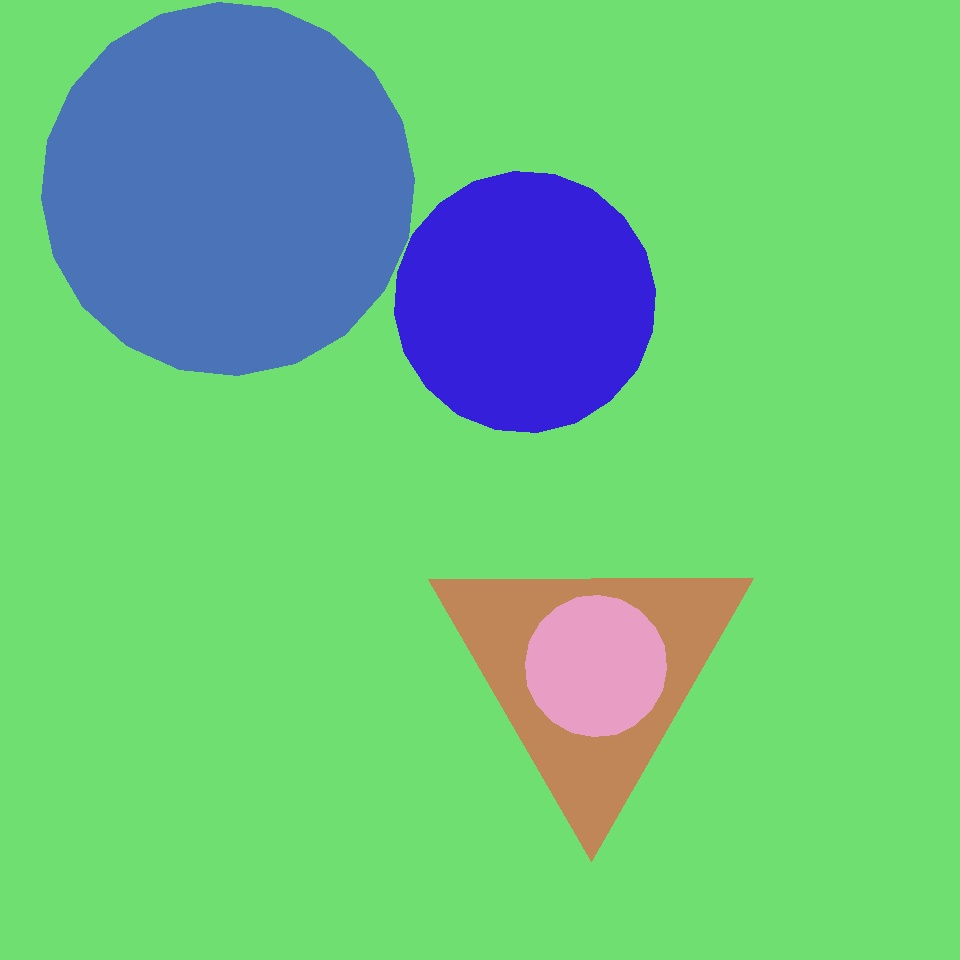circle: (428, 532, 754, 814), (428, 324, 697, 601), (828, 290, 938, 413), (292, 693, 384, 774)
square: (396, 279, 667, 550), (590, 156, 842, 408), (258, 648, 487, 876)
triangle: (41, 2, 414, 376), (394, 172, 656, 432), (526, 595, 666, 736)
